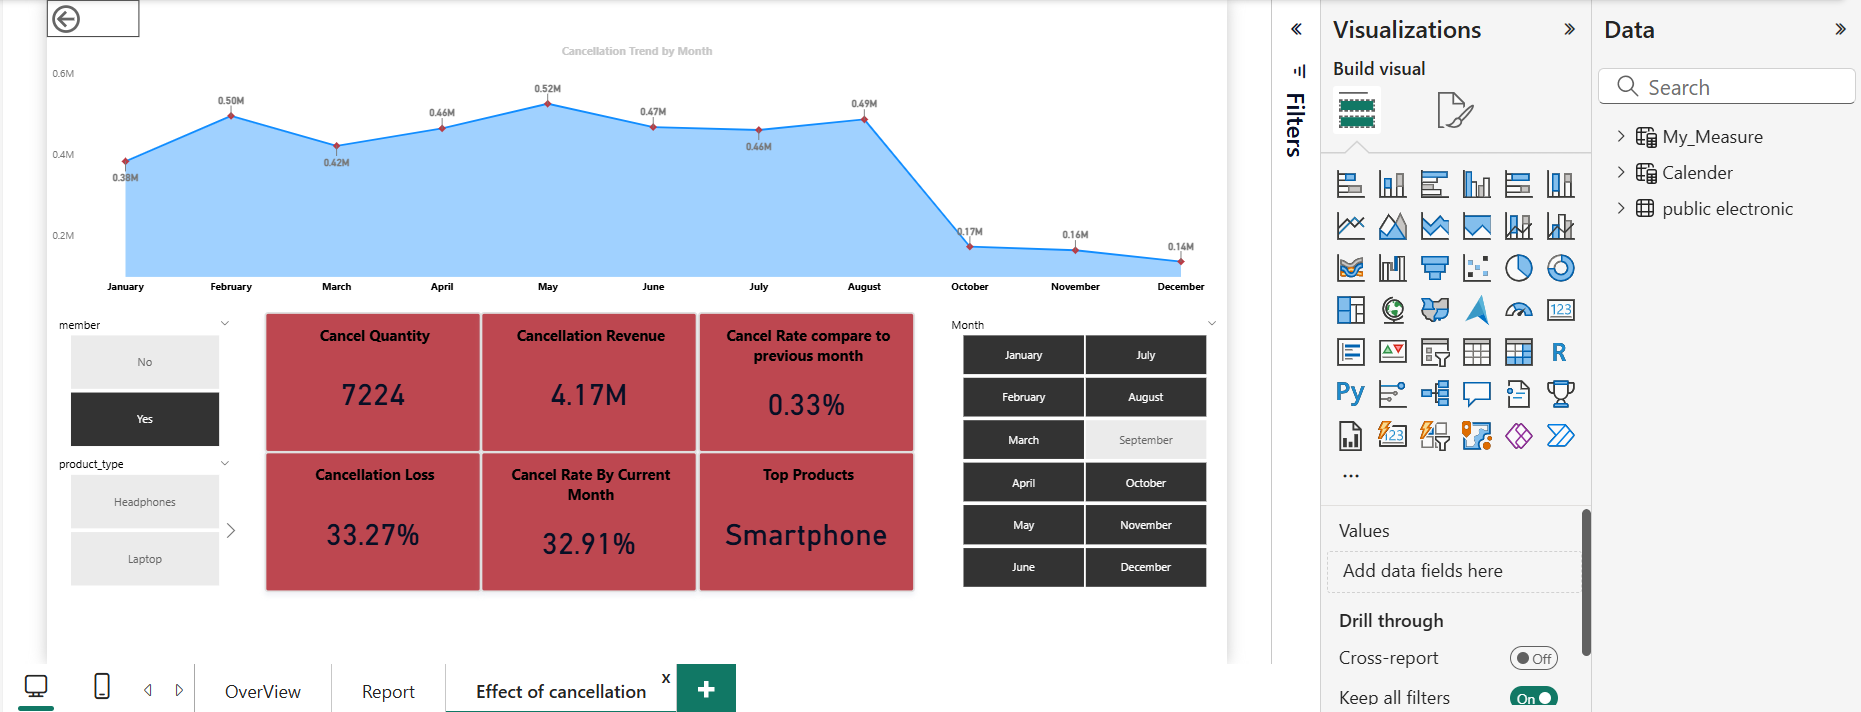

This screenshot's page, from the dashboard's own definition file:
{"tool":"powerbi","page":{"name":"Effect of cancellation ","canvas":[1280,720],"ordinal":2},"visuals":[{"type":"lineChart","title":"Cancellation Trend by Month","fields":{"Category":["Calender.Date.Variation.Date Hierarchy.Month"],"Y":["My_Measure.CanRevenue"]},"box":[0,47.2,1280.1,279.8],"z":0},{"type":"card","title":"Cancel Quantity","fields":{"Values":["My_Measure.cancel_quantity"]},"box":[235.2,337.9,235.2,152.4],"z":1000},{"type":"card","title":"Cancellation Loss","fields":{"Values":["My_Measure.Cancellation Loss"]},"box":[235.2,490.3,235.2,152.4],"z":2000},{"type":"card","title":"Cancellation Revenue","fields":{"Values":["My_Measure.CanRevenue"]},"box":[470.4,337.9,235.2,152.4],"z":3000},{"type":"card","title":"Cancel Rate By Current Month","fields":{"Values":["My_Measure.CancelRate_CurrentMonth"]},"box":[470.4,490.3,235.2,152.4],"z":4000},{"type":"card","title":"Cancel Rate compare to previous month","fields":{"Values":["My_Measure.CancelRate_PreviousMonth"]},"box":[705.7,337.9,235.2,152.4],"z":5000},{"type":"card","title":"Top Products","fields":{"Values":["My_Measure.TopProduct"]},"box":[705.7,490.3,235.2,152.4],"z":6000},{"type":"slicer","fields":{"Values":["Calender.Date.Variation.Date Hierarchy.Month"]},"box":[967.4,337.9,313.1,304.8],"z":7000},{"type":"slicer","fields":{"Values":["public electronic.member"]},"box":[0,337.9,210.4,152.4],"z":8000},{"type":"slicer","fields":{"Values":["public electronic.product_type"]},"box":[0,490.3,210.4,152.4],"z":9000},{"type":"actionButton","box":[0,0,100,40],"z":10000}]}

Visuals, with their boxes on the page's 1280x720 design canvas (x1, y1, x2, y2). These are canvas units, not pixel positions in the 1861x712 screenshot, which may show the page scaled, cropped or inside an application window:
"Cancellation Trend by Month" lineChart: pyautogui.locateOnScreen(0, 47, 1280, 327)
"Cancel Quantity" card: pyautogui.locateOnScreen(235, 338, 470, 490)
"Cancellation Loss" card: pyautogui.locateOnScreen(235, 490, 470, 643)
"Cancellation Revenue" card: pyautogui.locateOnScreen(470, 338, 706, 490)
"Cancel Rate By Current Month" card: pyautogui.locateOnScreen(470, 490, 706, 643)
"Cancel Rate compare to previous month" card: pyautogui.locateOnScreen(706, 338, 941, 490)
"Top Products" card: pyautogui.locateOnScreen(706, 490, 941, 643)
slicer - Calender.Date.Variation.Date Hierarchy.Month: pyautogui.locateOnScreen(967, 338, 1280, 643)
slicer - public electronic.member: pyautogui.locateOnScreen(0, 338, 210, 490)
slicer - public electronic.product_type: pyautogui.locateOnScreen(0, 490, 210, 643)
actionButton: pyautogui.locateOnScreen(0, 0, 100, 40)
